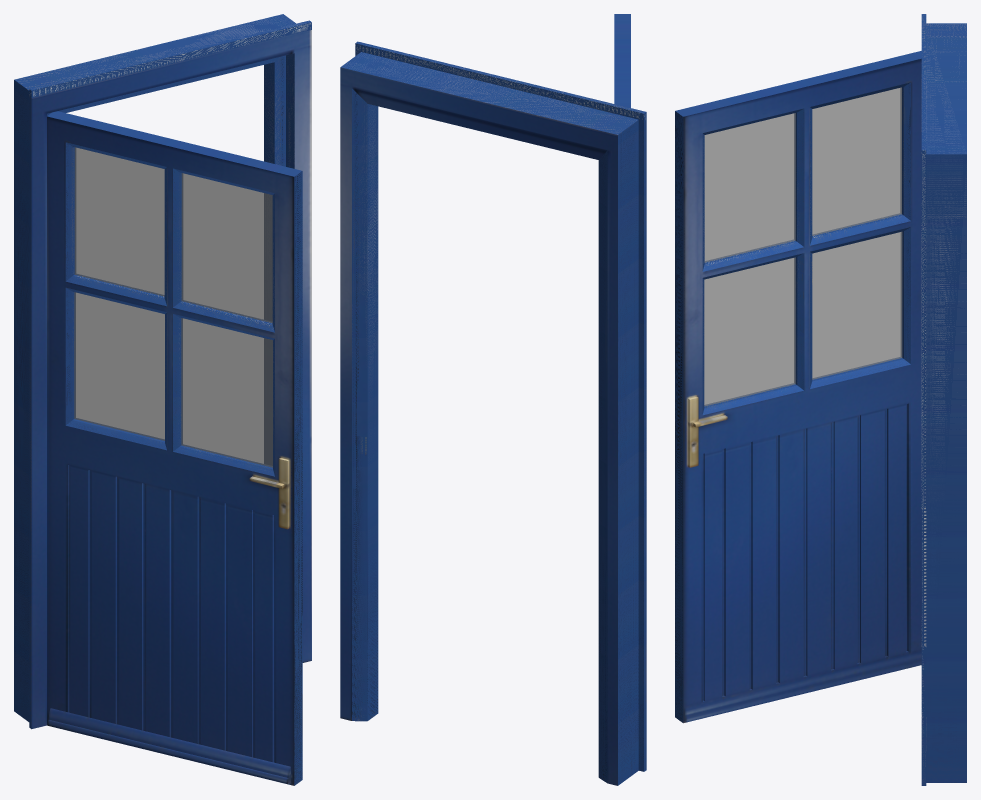
Rendered from door1_open.dae.
3 views of the same model, side by side, from view 1: azimuth 30°, elevation 25°; view 2: azimuth 150°, elevation 25°; view 3: azimuth 270°, elevation 25° (orthographic). The views are drawn at different scales.
Parts seen in each view (by area): view 1: group_2 (×13), group_1 (×2), group_3; view 2: group_1 (×2), group_2; view 3: group_2 (×13), group_1.
Boxes of the visible parts, left/top/right/bottom form: group_2 (×13): left=47, top=111, right=302, bottom=785; group_1 (×2): left=14, top=14, right=311, bottom=728; group_3: left=48, top=708, right=290, bottom=783; group_1 (×2): left=340, top=41, right=646, bottom=785; group_2: left=614, top=14, right=630, bottom=107; group_2 (×13): left=675, top=51, right=921, bottom=722; group_1: left=921, top=14, right=966, bottom=785.
Size of the model in its own units: 39.05 by 35.36 by 85.02.
3 materials, 2 textured.
